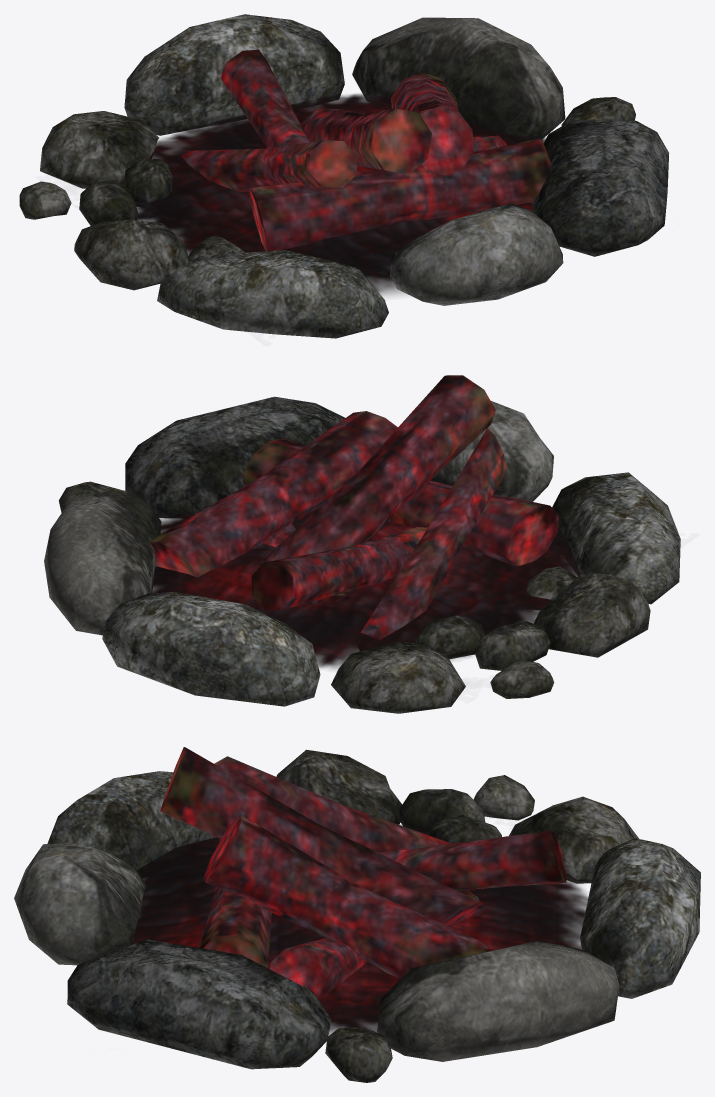
The model's file is BonFire.gltf.
The picture shows the model from 3 angles, top to bottom: view 1: azimuth 30°, elevation 25°; view 2: azimuth 150°, elevation 25°; view 3: azimuth 270°, elevation 25°; orthographic projection. The views are drawn at different scales.
Parts seen in each view (by area): view 1: Bonfire.001, Bonfire.001_Bonfire_0.016, Bonfire.001_Bonfire_0.011, Bonfire.001_Bonfire_0.012, Bonfire.001_Bonfire_0.022, Bonfire.001_Bonfire_0.018, Bonfire.001_Bonfire_0.034, Bonfire.001_Bonfire_0.035, Bonfire.001_Bonfire_0.014, Bonfire.001_Bonfire_0.020, Bonfire.001_Bonfire_0.032, Bonfire.001_Bonfire_0.055 (+12 smaller); view 2: Bonfire.001, Bonfire.001_Bonfire_0.016, Bonfire.001_Bonfire_0.022, Bonfire.001_Bonfire_0.011, Bonfire.001_Bonfire_0.012, Bonfire.001_Bonfire_0.031, Bonfire.001_Bonfire_0.014, Bonfire.001_Bonfire_0.025, Bonfire.001_Bonfire_0.020, Bonfire.001_Bonfire_0.024, Bonfire.001_Bonfire_0.030, Bonfire.001_Bonfire_0.028 (+13 smaller); view 3: Bonfire.001_Bonfire_0.022, Bonfire.001_Bonfire_0.011, Bonfire.001, Bonfire.001_Bonfire_0.016, Bonfire.001_Bonfire_0.018, Bonfire.001_Bonfire_0.024, Bonfire.001_Bonfire_0.012, Bonfire.001_Bonfire_0.025, Bonfire.001_Bonfire_0.031, Bonfire.001_Bonfire_0.032, Bonfire.001_Bonfire_0.030, Bonfire.001_Bonfire_0.014 (+11 smaller).
Boxes of the visible parts, <box> form: Bonfire.001: <box>79,94,545,295</box>; Bonfire.001_Bonfire_0.016: <box>124,14,344,135</box>; Bonfire.001_Bonfire_0.011: <box>352,17,565,140</box>; Bonfire.001_Bonfire_0.012: <box>157,250,388,338</box>; Bonfire.001_Bonfire_0.022: <box>531,120,669,256</box>; Bonfire.001_Bonfire_0.018: <box>389,203,563,305</box>; Bonfire.001_Bonfire_0.034: <box>250,171,415,250</box>; Bonfire.001_Bonfire_0.035: <box>407,139,551,220</box>; Bonfire.001_Bonfire_0.014: <box>40,111,158,188</box>; Bonfire.001_Bonfire_0.020: <box>74,219,190,290</box>; Bonfire.001_Bonfire_0.032: <box>220,49,309,147</box>; Bonfire.001_Bonfire_0.055: <box>371,108,431,174</box>; Bonfire.001: <box>151,509,580,670</box>; Bonfire.001_Bonfire_0.016: <box>102,592,320,706</box>; Bonfire.001_Bonfire_0.022: <box>125,396,344,518</box>; Bonfire.001_Bonfire_0.011: <box>44,491,161,635</box>; Bonfire.001_Bonfire_0.012: <box>552,472,680,604</box>; Bonfire.001_Bonfire_0.031: <box>358,375,495,513</box>; Bonfire.001_Bonfire_0.014: <box>331,641,465,713</box>; Bonfire.001_Bonfire_0.025: <box>150,476,293,577</box>; Bonfire.001_Bonfire_0.020: <box>533,571,650,657</box>; Bonfire.001_Bonfire_0.024: <box>262,411,397,523</box>; Bonfire.001_Bonfire_0.030: <box>261,470,401,563</box>; Bonfire.001_Bonfire_0.028: <box>361,523,469,639</box>; Bonfire.001_Bonfire_0.022: <box>67,939,331,1069</box>; Bonfire.001_Bonfire_0.011: <box>377,941,619,1061</box>; Bonfire.001: <box>133,789,588,1035</box>; Bonfire.001_Bonfire_0.016: <box>580,838,700,998</box>; Bonfire.001_Bonfire_0.018: <box>14,842,145,965</box>; Bonfire.001_Bonfire_0.024: <box>205,815,360,937</box>; Bonfire.001_Bonfire_0.012: <box>47,771,216,873</box>; Bonfire.001_Bonfire_0.025: <box>332,887,489,978</box>; Bonfire.001_Bonfire_0.031: <box>161,747,318,859</box>; Bonfire.001_Bonfire_0.032: <box>403,830,565,890</box>; Bonfire.001_Bonfire_0.030: <box>316,823,480,923</box>; Bonfire.001_Bonfire_0.014: <box>509,796,638,883</box>.
Bounding box in the file's own units: 3.82 × 1.16 × 3.7.
Materials: 2 (2 with a texture image).
